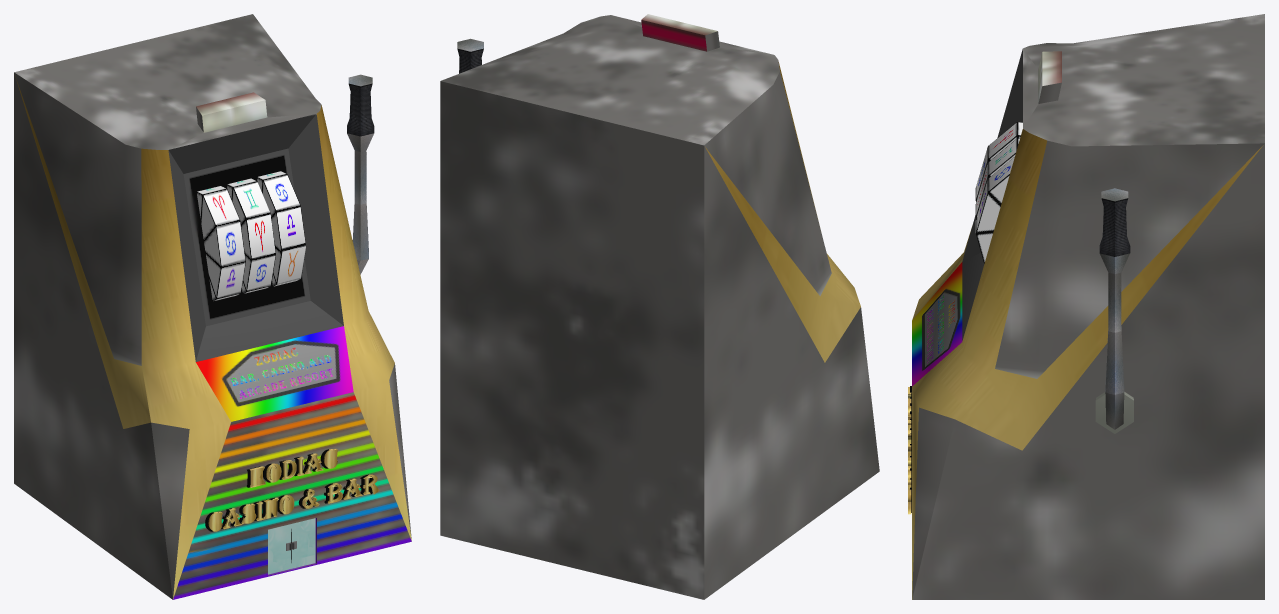
File: Casino.fbx
3 views of the same model, side by side, from view 1: azimuth 30°, elevation 25°; view 2: azimuth 150°, elevation 25°; view 3: azimuth 270°, elevation 25° (orthographic). The views are drawn at different scales.
Visible parts, largest first — view 1: Zodiac_Casino, Cylinder, Cylinder_2, Cylinder_1, Capsule; view 2: Zodiac_Casino, Capsule; view 3: Zodiac_Casino, Capsule, Cylinder_2, Cylinder, Cylinder_1.
Part boxes in pixels (x1,y1,x2,y2): Zodiac_Casino: (14, 14, 411, 599); Cylinder: (196, 186, 245, 301); Cylinder_2: (257, 171, 305, 286); Cylinder_1: (226, 178, 275, 293); Capsule: (347, 74, 374, 274); Zodiac_Casino: (440, 14, 879, 599); Capsule: (457, 38, 483, 73); Zodiac_Casino: (912, 14, 1264, 599); Capsule: (1095, 188, 1133, 433); Cylinder_2: (975, 157, 1014, 263); Cylinder: (975, 122, 1022, 201); Cylinder_1: (975, 138, 1019, 218).
Size of the model in its own units: 1407 by 1921 by 1327.
5 materials, 4 textured.
